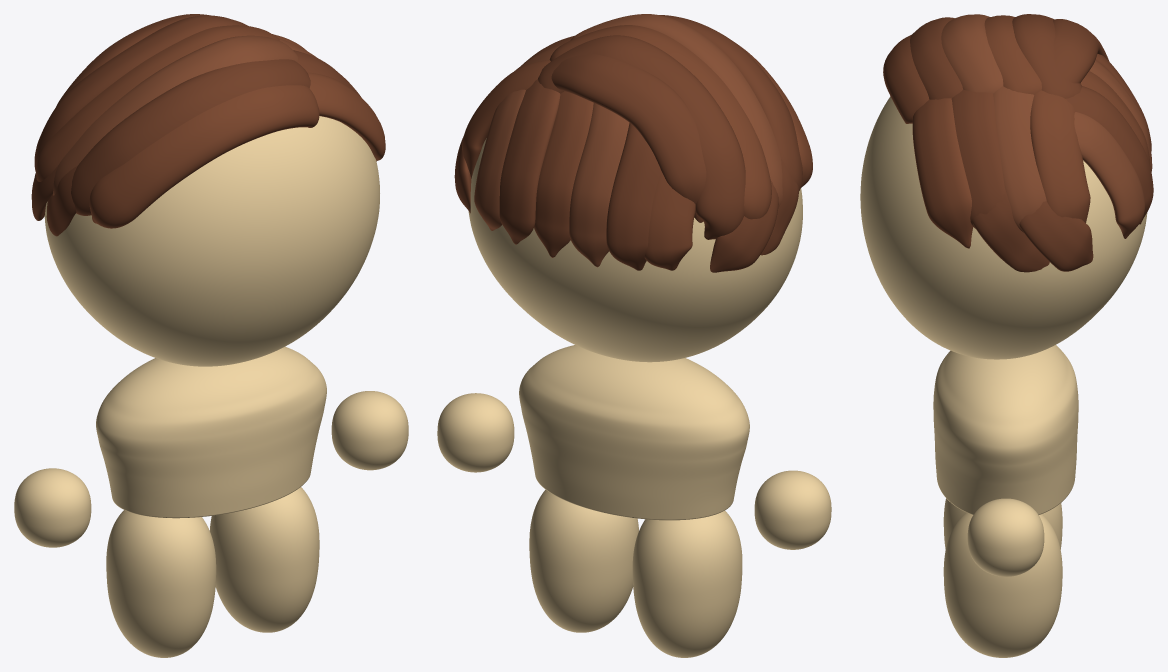
The model's file is Masculine-base.glb.
3 renders of one model, left to right at view 1: azimuth 30°, elevation 25°; view 2: azimuth 150°, elevation 25°; view 3: azimuth 270°, elevation 25°, orthographic.
Visible parts, largest first — view 1: Skin / soft oval head, Skin / rounded torso, Skin / leg blob -1, Skin / leg blob 1, Hair / Side part main 0, Hair / Side part main 1, Hair / Side part main 2, Skin / orb hand -1, Skin / orb hand 1, Hair / Side part main 3, Hair / Side part main 4, Hair / Side part short 0 (+4 smaller); view 2: Skin / rounded torso, Skin / soft oval head, Skin / leg blob -1, Skin / leg blob 1, Hair / Side part crown, Hair / Side part main 4, Hair / Side part nape 2, Hair / Side part nape 4, Hair / Side part main 3, Hair / Side part nape 3, Hair / Side part nape 1, Skin / orb hand 1 (+10 smaller); view 3: Skin / soft oval head, Skin / rounded torso, Skin / leg blob 1, Hair / Side part short 0, Hair / Side part short 3, Skin / orb hand 1, Hair / Side part short 1, Hair / Side part short 2, Hair / Side part nape 5, Hair / Side part main 2, Hair / Side part low 1 1, Hair / Side part main 4 (+10 smaller).
Boxes of the visible parts, left/top/right/bottom form: Skin / soft oval head: left=44, top=116, right=379, bottom=366; Skin / rounded torso: left=96, top=346, right=326, bottom=518; Skin / leg blob -1: left=106, top=510, right=216, bottom=657; Skin / leg blob 1: left=209, top=487, right=319, bottom=632; Hair / Side part main 0: left=89, top=85, right=319, bottom=228; Hair / Side part main 1: left=71, top=59, right=310, bottom=215; Hair / Side part main 2: left=53, top=35, right=298, bottom=195; Skin / orb hand -1: left=14, top=468, right=91, bottom=547; Skin / orb hand 1: left=331, top=391, right=408, bottom=470; Hair / Side part main 3: left=35, top=25, right=279, bottom=181; Hair / Side part main 4: left=34, top=15, right=247, bottom=170; Hair / Side part short 0: left=307, top=72, right=385, bottom=161; Skin / rounded torso: left=519, top=345, right=749, bottom=520; Skin / soft oval head: left=468, top=138, right=802, bottom=362; Skin / leg blob -1: left=632, top=510, right=742, bottom=657; Skin / leg blob 1: left=529, top=489, right=638, bottom=632; Hair / Side part crown: left=551, top=54, right=706, bottom=222; Hair / Side part main 4: left=538, top=35, right=745, bottom=239; Hair / Side part nape 2: left=569, top=103, right=629, bottom=267; Hair / Side part nape 4: left=499, top=79, right=560, bottom=244; Hair / Side part main 3: left=549, top=25, right=771, bottom=219; Hair / Side part nape 3: left=534, top=91, right=593, bottom=257; Hair / Side part nape 1: left=606, top=123, right=661, bottom=270; Skin / orb hand 1: left=437, top=393, right=514, bottom=472; Skin / soft oval head: left=860, top=96, right=1147, bottom=359; Skin / rounded torso: left=933, top=345, right=1078, bottom=514; Skin / leg blob 1: left=943, top=512, right=1062, bottom=657; Hair / Side part short 0: left=912, top=98, right=973, bottom=248; Hair / Side part short 3: left=1030, top=90, right=1090, bottom=222; Skin / orb hand 1: left=967, top=498, right=1044, bottom=576; Hair / Side part short 1: left=951, top=89, right=1004, bottom=228; Hair / Side part short 2: left=993, top=86, right=1046, bottom=232; Hair / Side part nape 5: left=1074, top=112, right=1144, bottom=238; Hair / Side part main 2: left=941, top=14, right=1003, bottom=93; Hair / Side part low 1 1: left=1019, top=201, right=1093, bottom=271; Hair / Side part main 4: left=1012, top=14, right=1081, bottom=98.
Bounding box in the file's own units: 1.23 × 1.87 × 0.8255.
